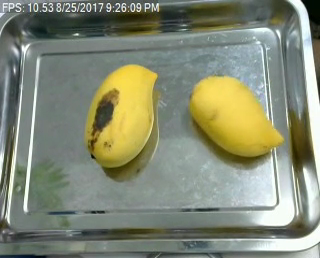Mango: (188, 75, 287, 156), (85, 61, 159, 168)
